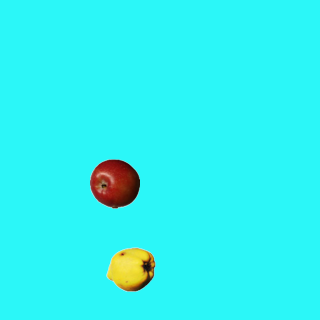Apple Braeburn: (89, 158, 139, 208)
Quince: (105, 244, 155, 294)
